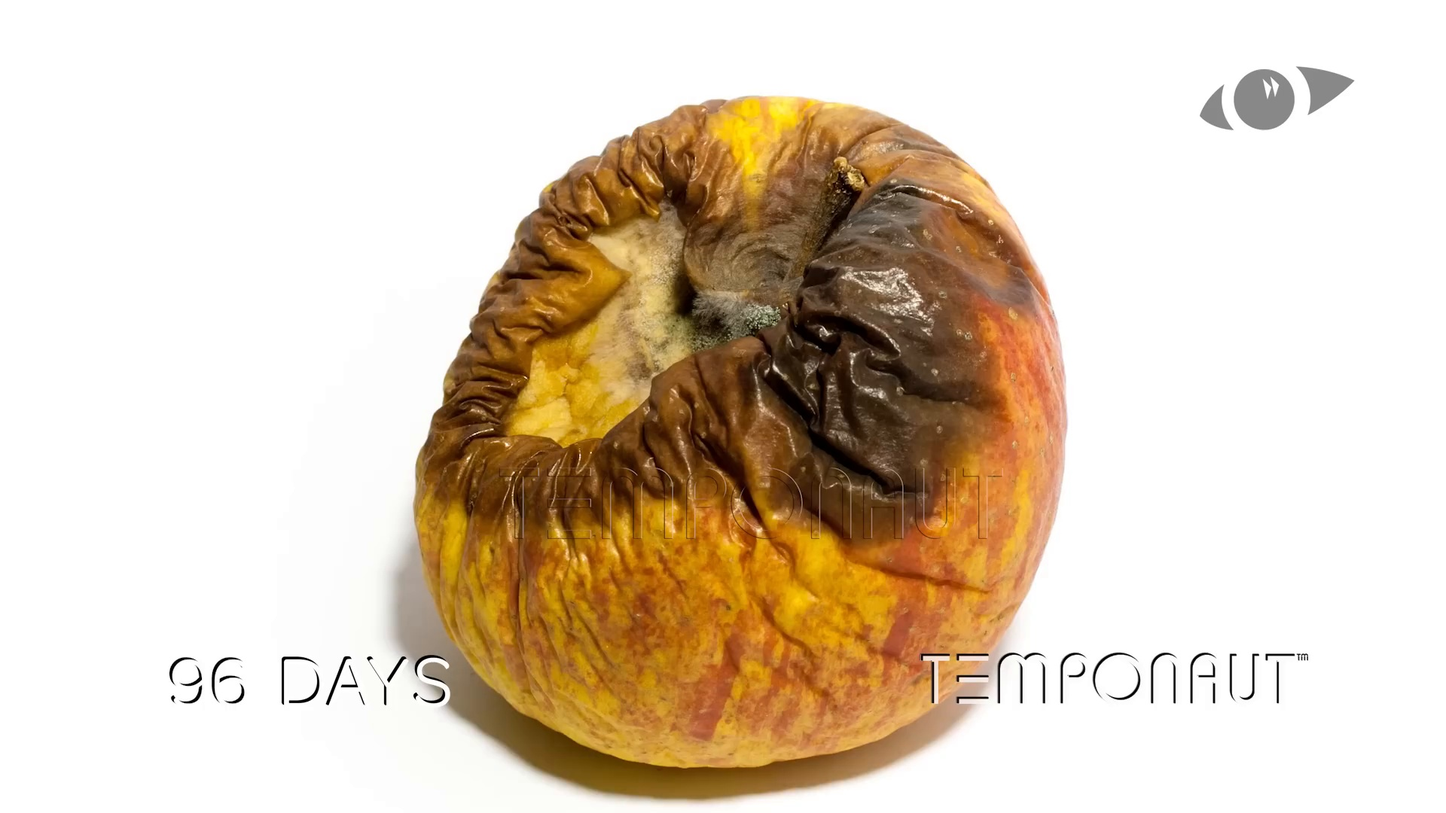apple_rotten: (411, 95, 1068, 771)
